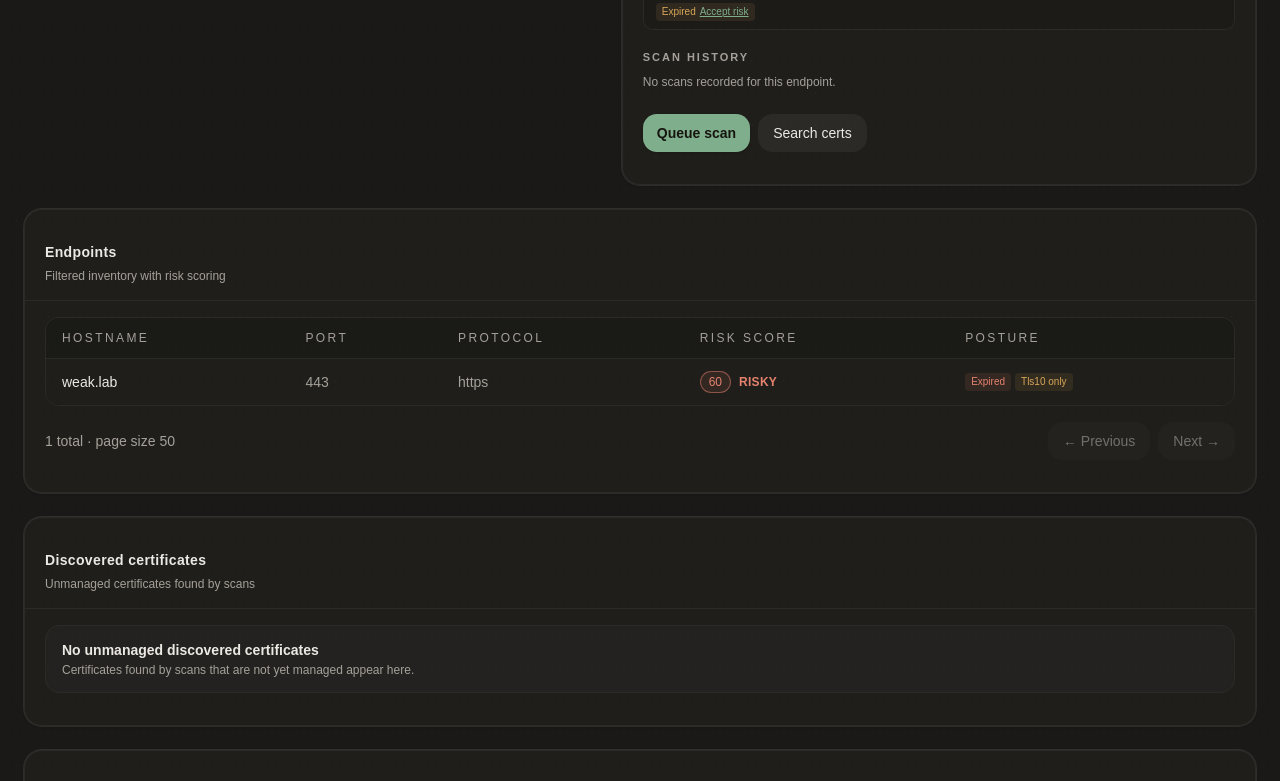
Test case: accept-risk dialog › shows a server rejection verbatim
(page scrolled)
Click the button "weak.lab" at [90, 382], box [62,372,117,392]
(page scrolled)
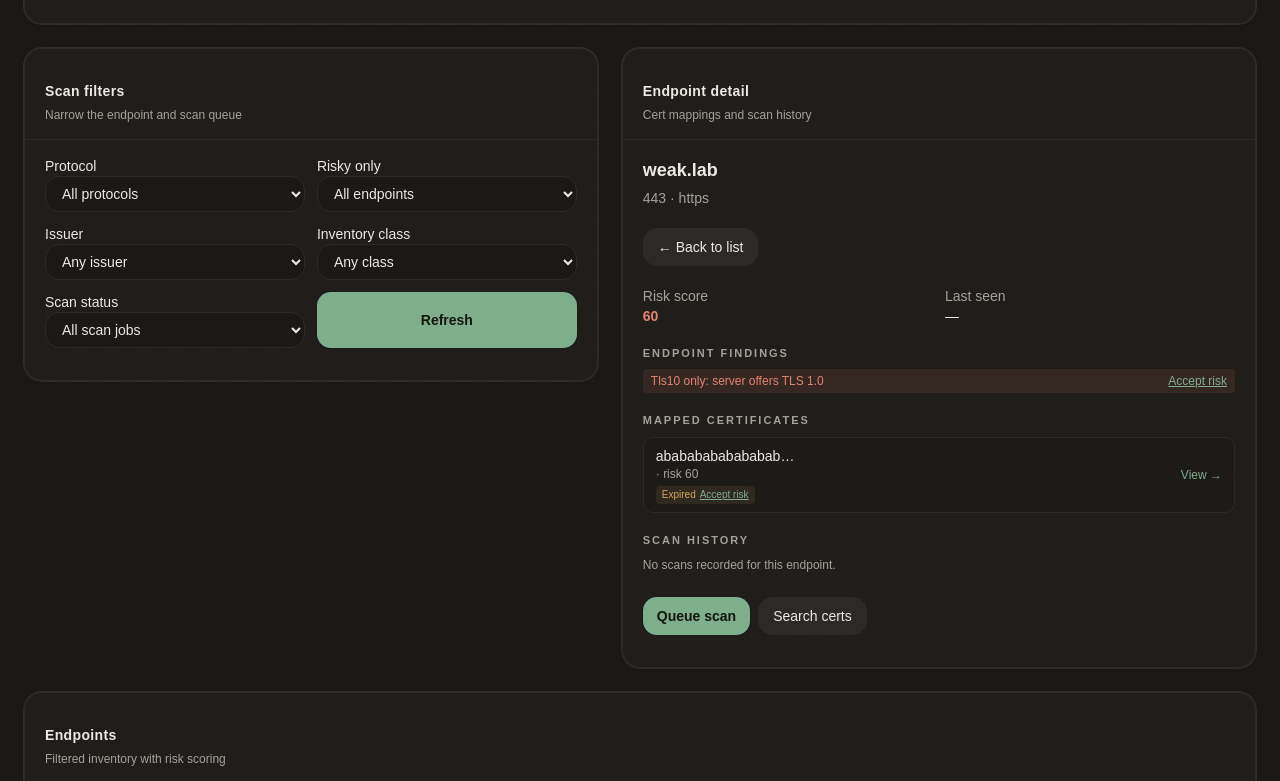
Click the button "Accept risk" in the row of "Tls10 only: server offers TLS 1.0" at [1198, 381], box [1168,373,1227,389]
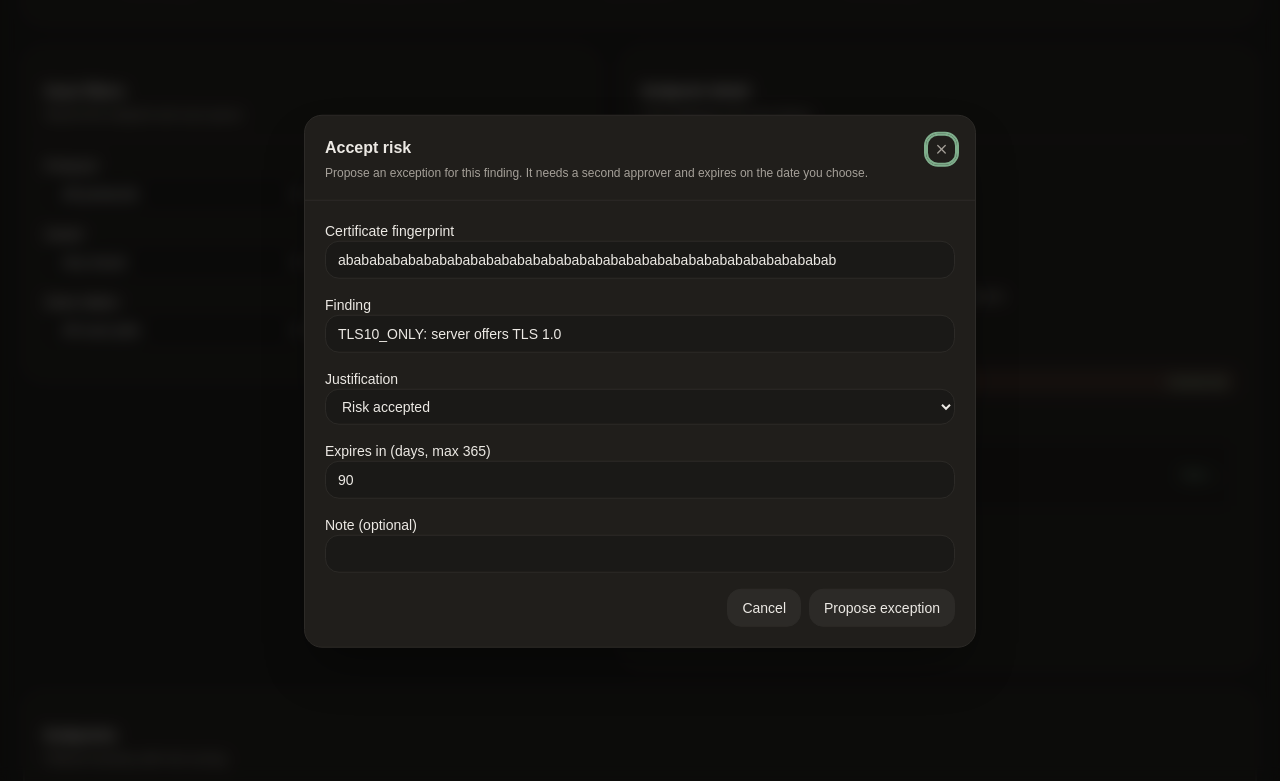
Click the button "Propose exception" at [882, 607], box [809,588,955,626]
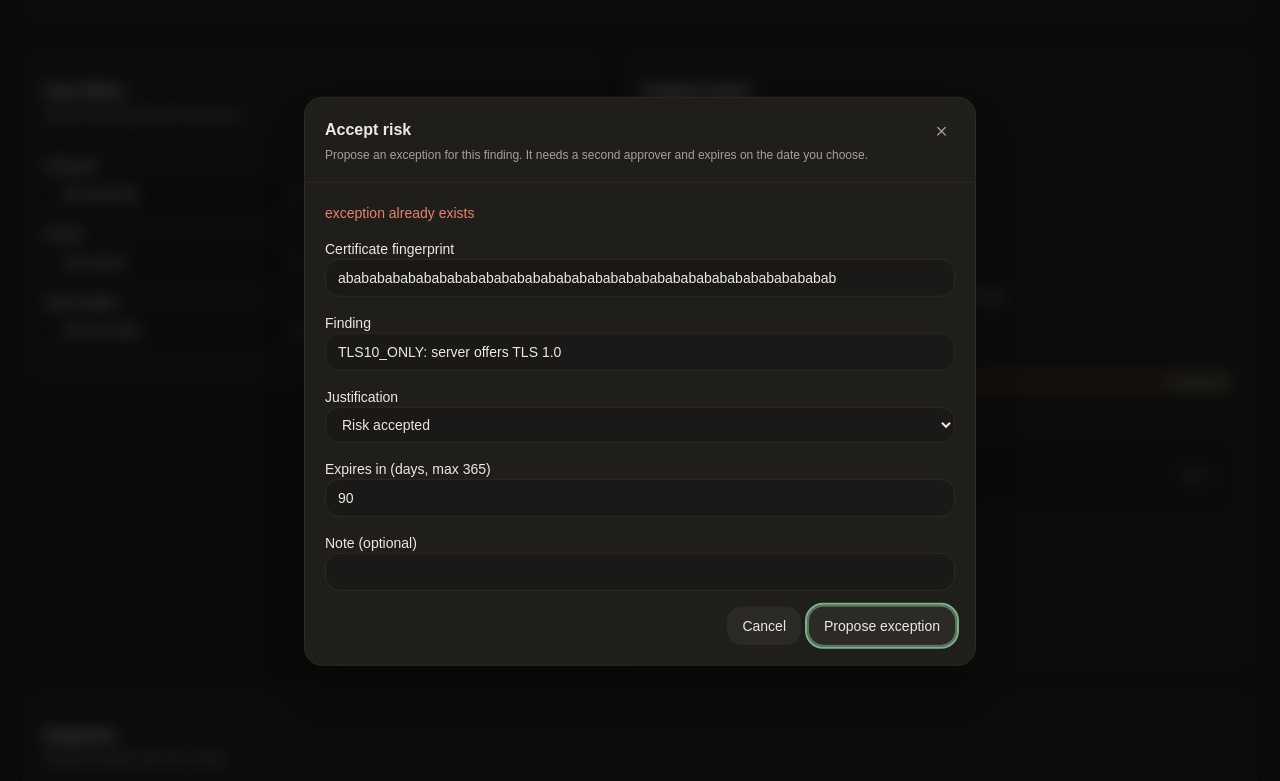
expect the text "exception already exists" is shown: met, box [325,204,474,220]
